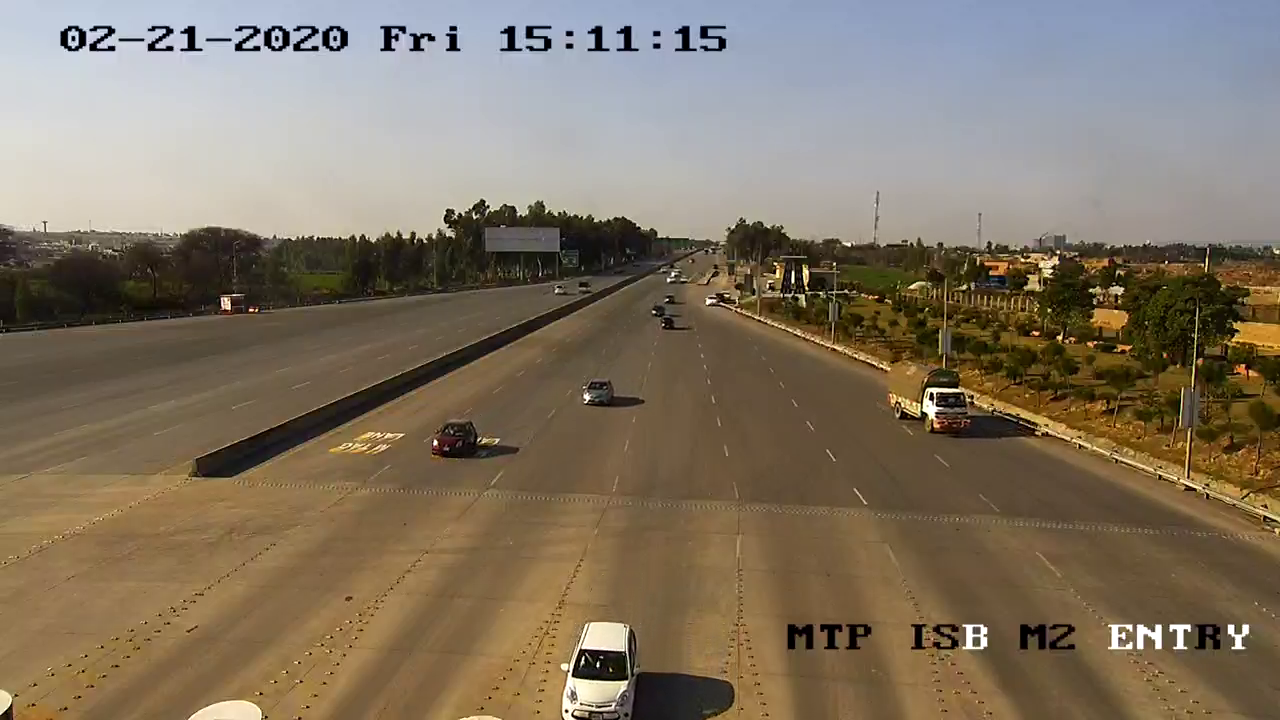f1: (551, 614, 646, 720), (425, 414, 488, 466), (578, 375, 620, 416)
f5: (883, 354, 974, 443)
